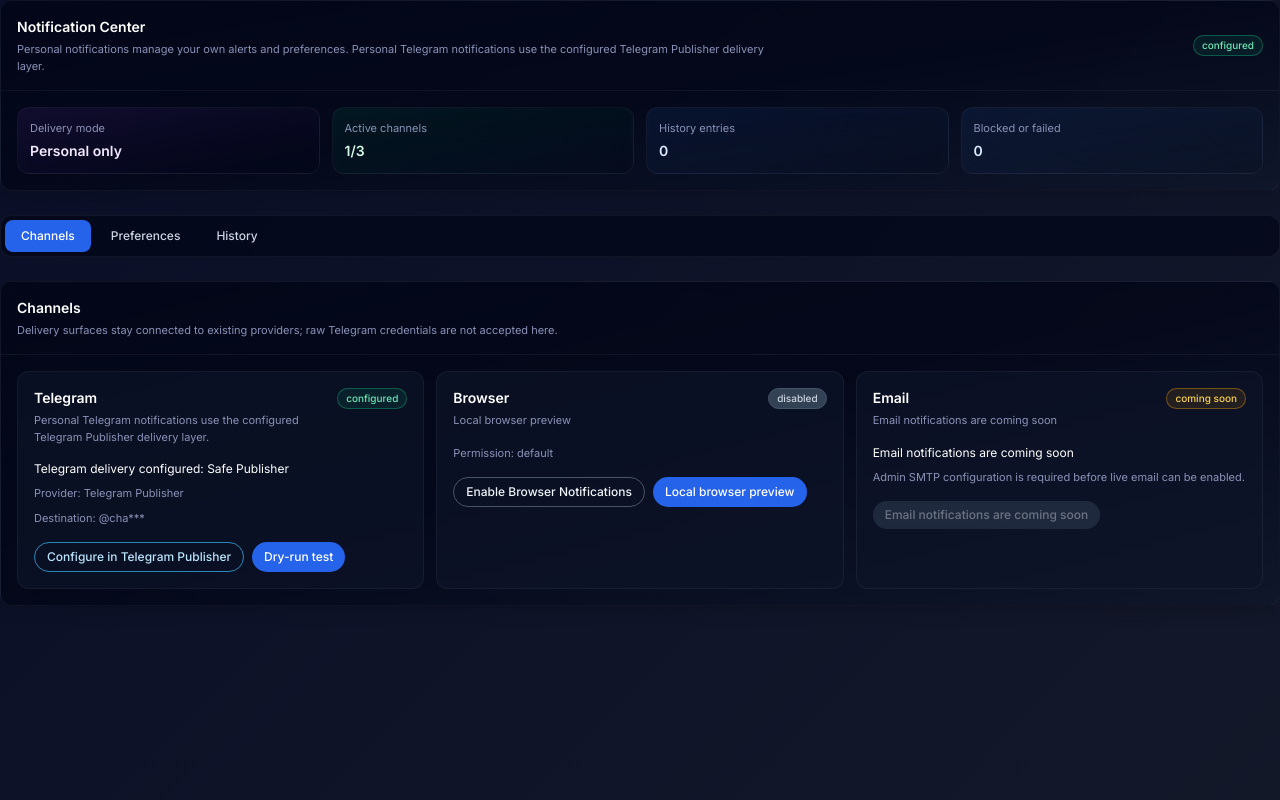
NotificationsSettings unified center › browser channel persistence › persists browser_enabled=false when permission is denied
Check: the heading "Browser" is shown, box [453,389,509,406]
What coordinates should you click on to do the following:
click the button "Enable Browser Notifications"
I would click on:
 (549, 492)
Its box is [453,477,645,507].
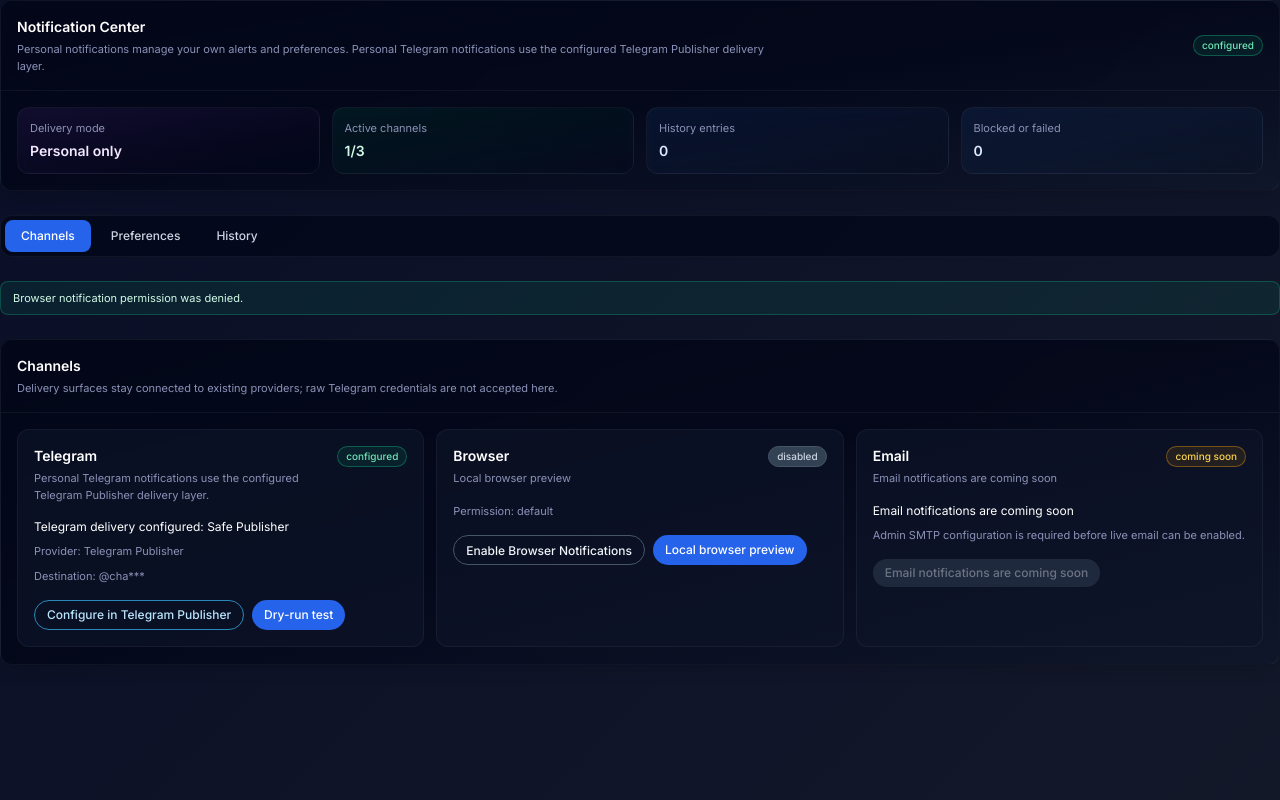
Check: the text "disabled" is shown, box [768,446,827,468]
Check: the text "Browser notification permission was denied." is shown, box [0,280,1279,315]
